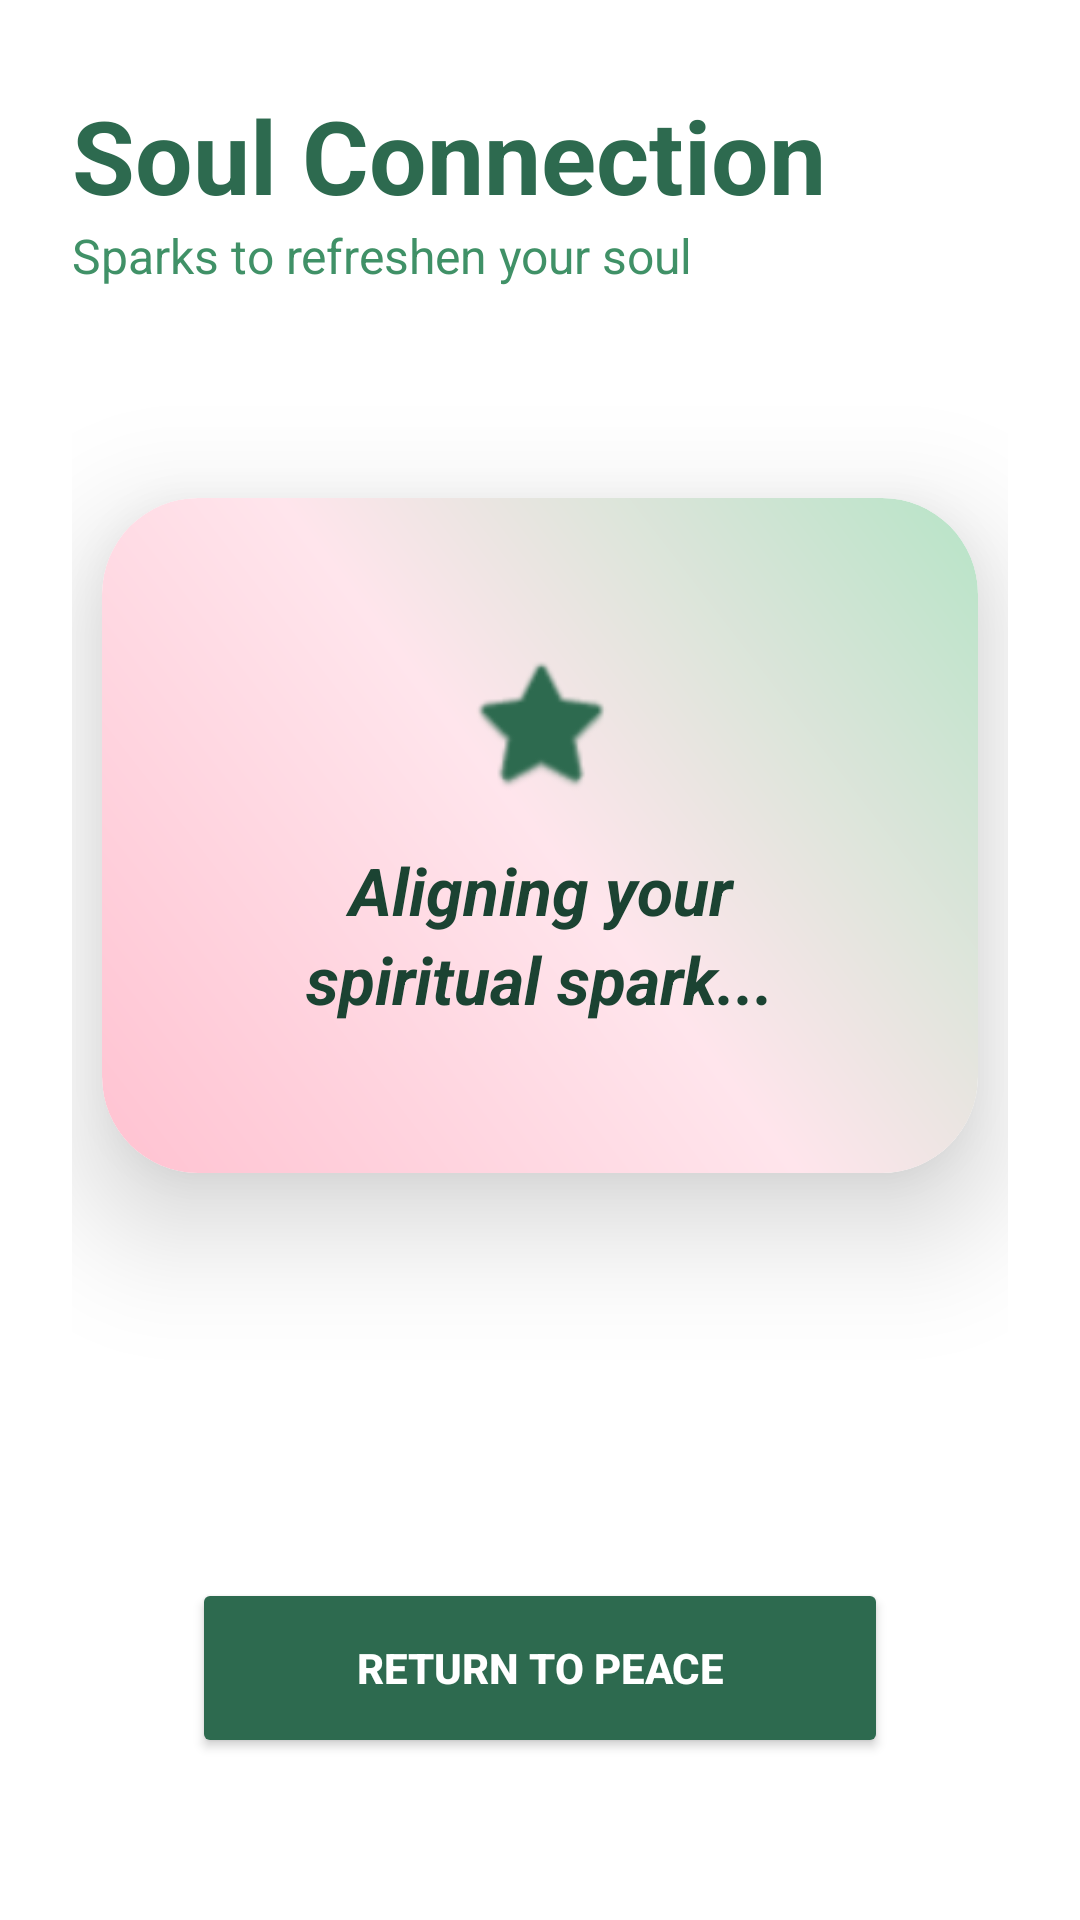

Named icons in this screenshot (1080w x 1920h) and their centers, point (x, y):
star on: point (541, 723)
